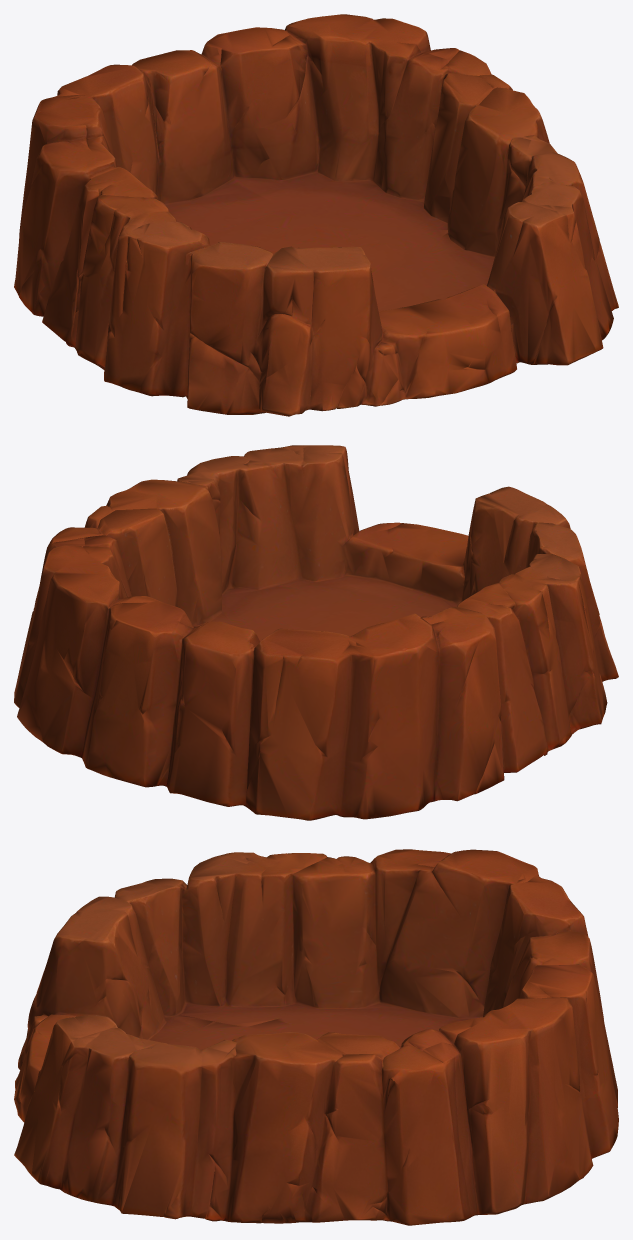
File: crater.glb
The picture shows the model from 3 angles, top to bottom: view 1: azimuth 30°, elevation 25°; view 2: azimuth 150°, elevation 25°; view 3: azimuth 270°, elevation 25°; orthographic projection. The views are drawn at different scales.
Parts seen in each view (by area): view 1: crater; view 2: crater; view 3: crater.
Part boxes in pixels (x1,y1,x2,y2): crater: (14,14,618,416); crater: (14,445,618,820); crater: (14,849,618,1225).
Size of what is drawn, in the model's own units: 11.59 by 3.73 by 12.
1 material, 1 textured.
